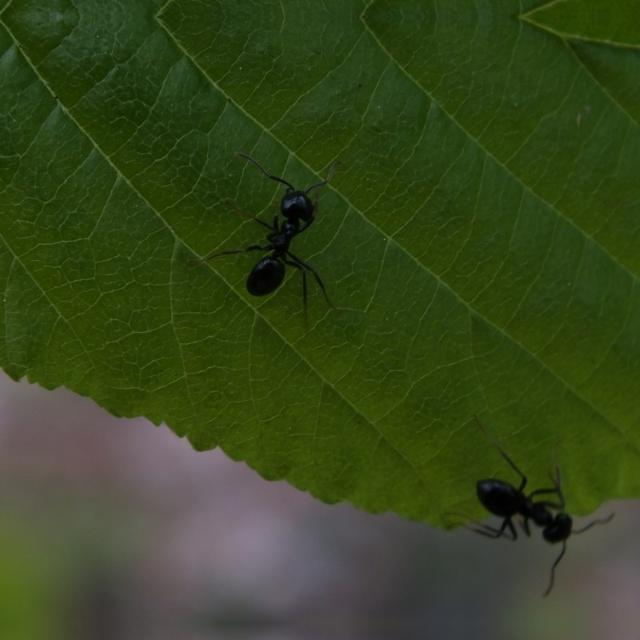Lasius: (464, 438, 604, 582), (222, 158, 344, 322)
